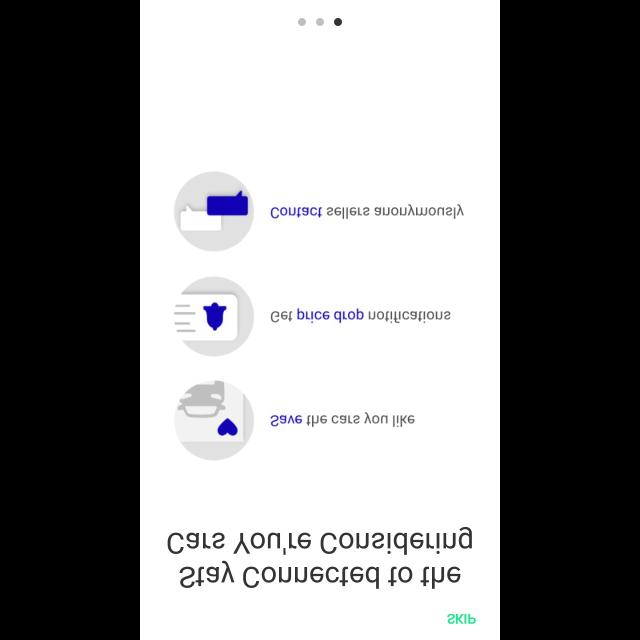image: (173, 171, 254, 251), (174, 380, 254, 460), (174, 276, 254, 356)
pageindicator: (298, 18, 342, 27)
text: (168, 526, 472, 590), (271, 204, 465, 220), (271, 308, 451, 324), (270, 412, 414, 428), (448, 612, 477, 624)
